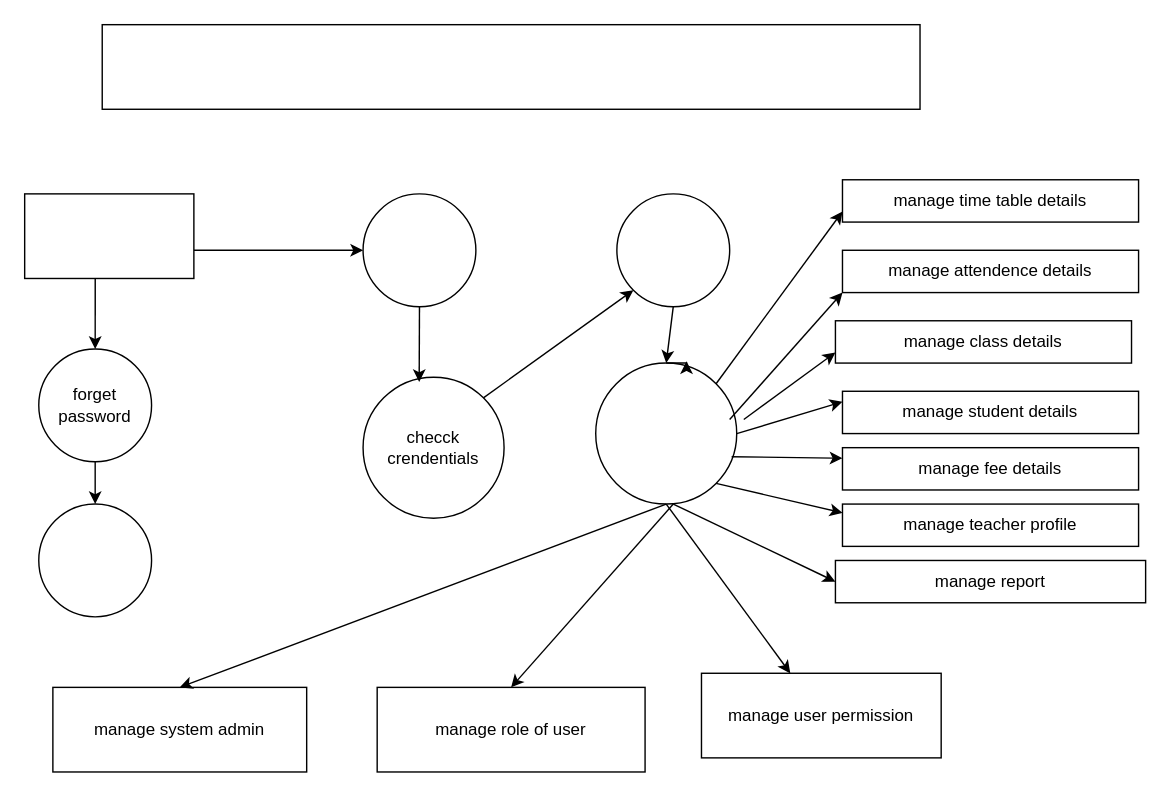
Image size: 1170x797. Some labels were removed from this diagram. Each missing label, with the centre of its shape:
admin: (108,235)
check roles of access: (672,249)
login to system: (419,249)
manage modules: (665,433)
sent email to user: (94,560)
student information system: (510,66)
